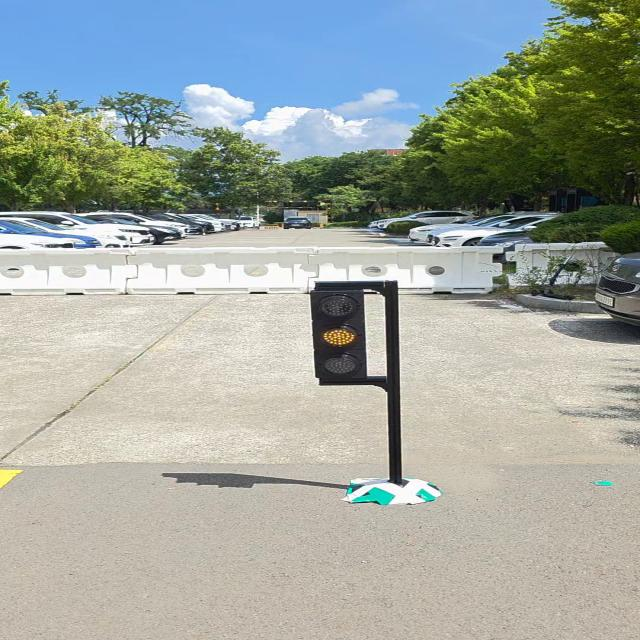yellow: (309, 290, 369, 380)
